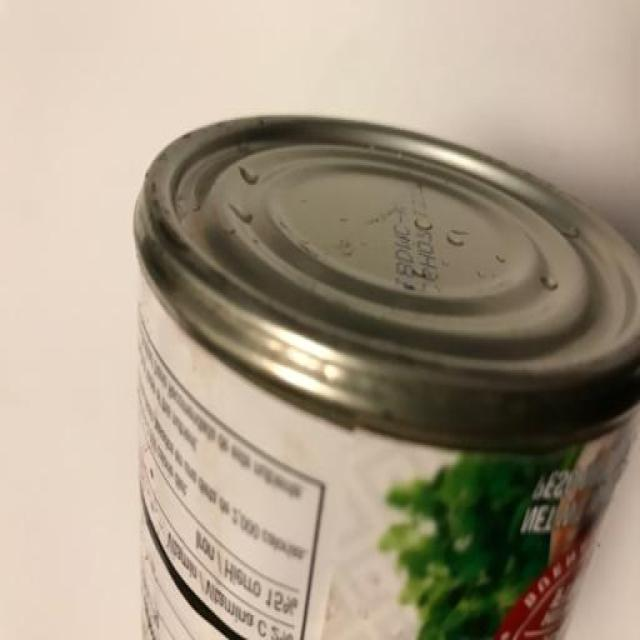Metal: (131, 112, 640, 640)
